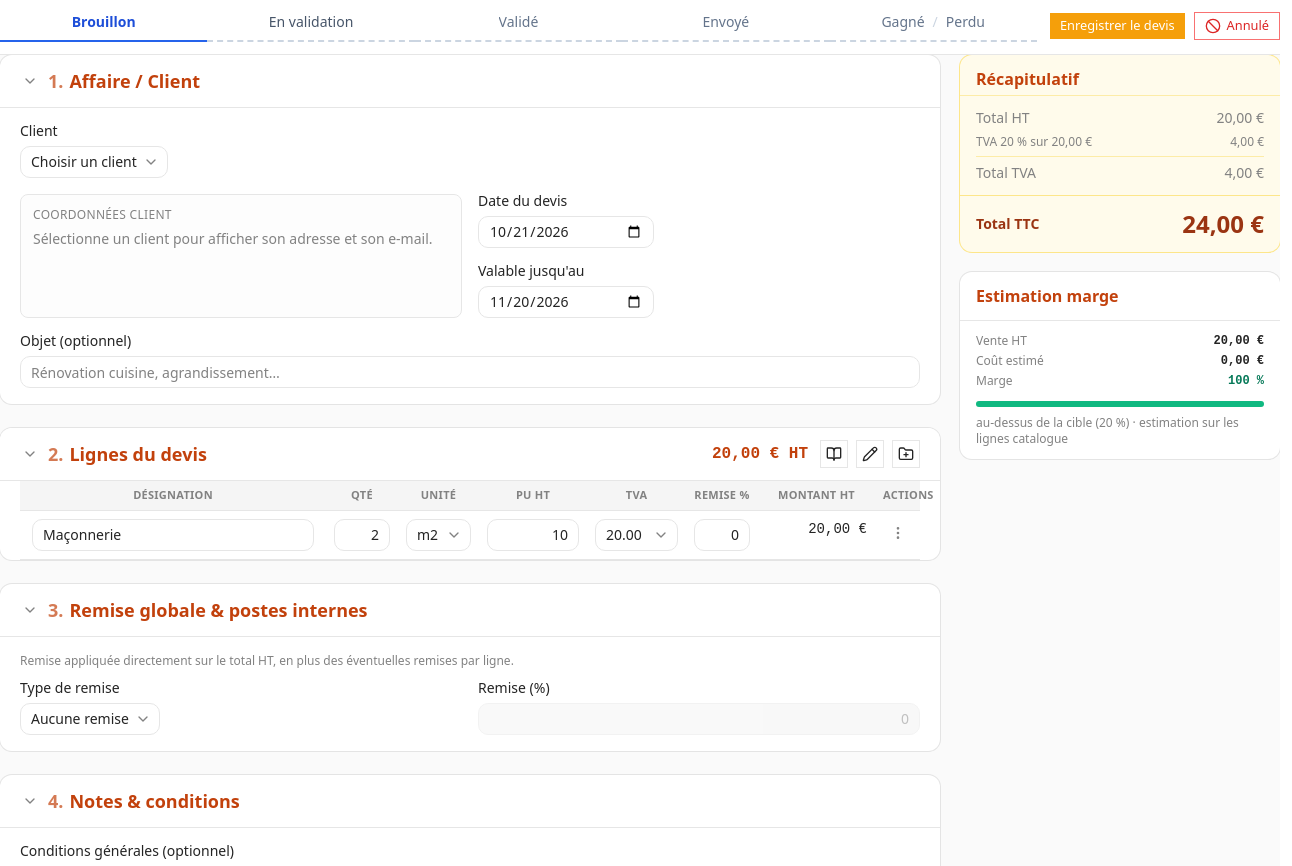
Test: Ligne de devis allégée — menu ⋮ › se referme après le choix d’une entrée
Click the heading titled "Actions de la ligne". click: (898, 532)
box: top-left (890, 524), bottom-right (906, 540)
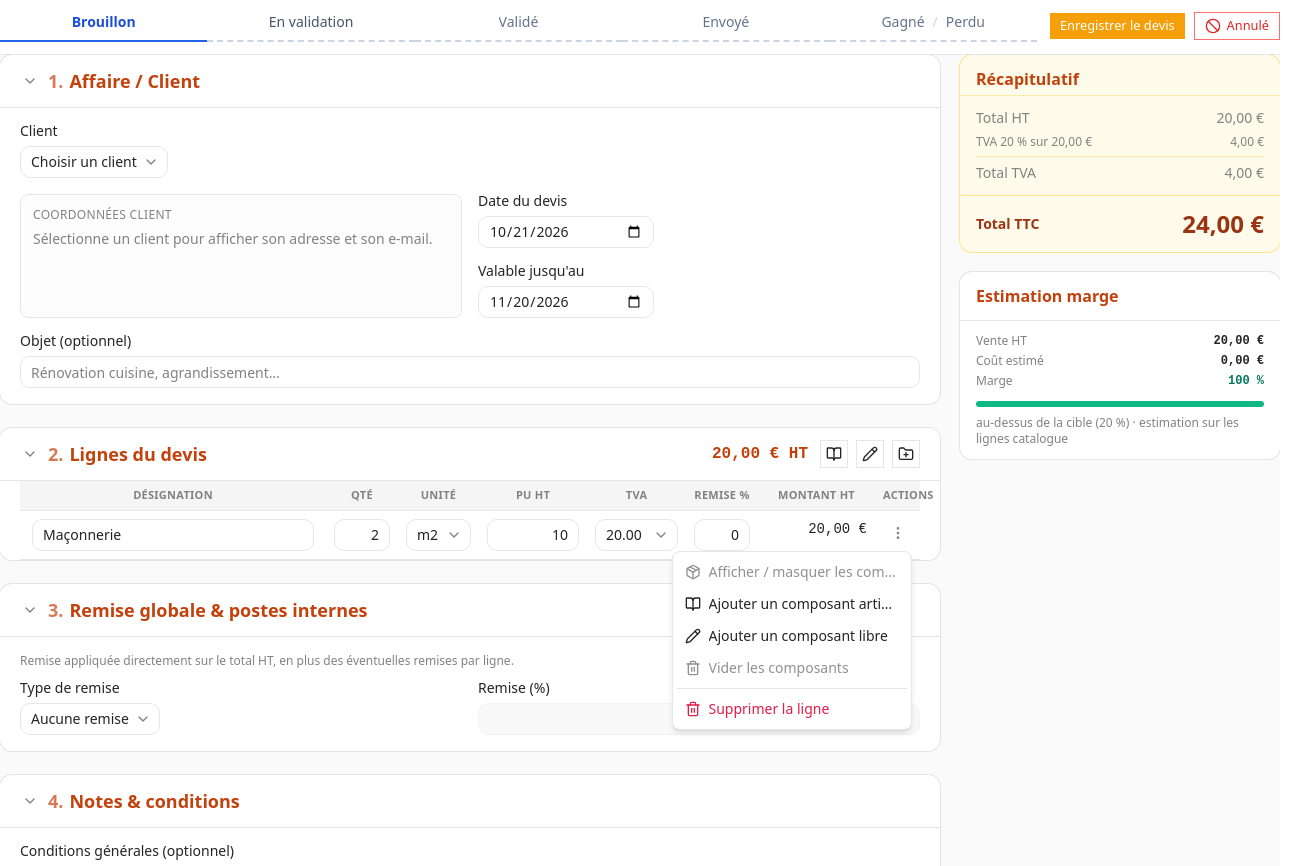
Click the button labelled "Supprimer la ligne". click: (792, 708)
box: top-left (676, 692), bottom-right (906, 724)
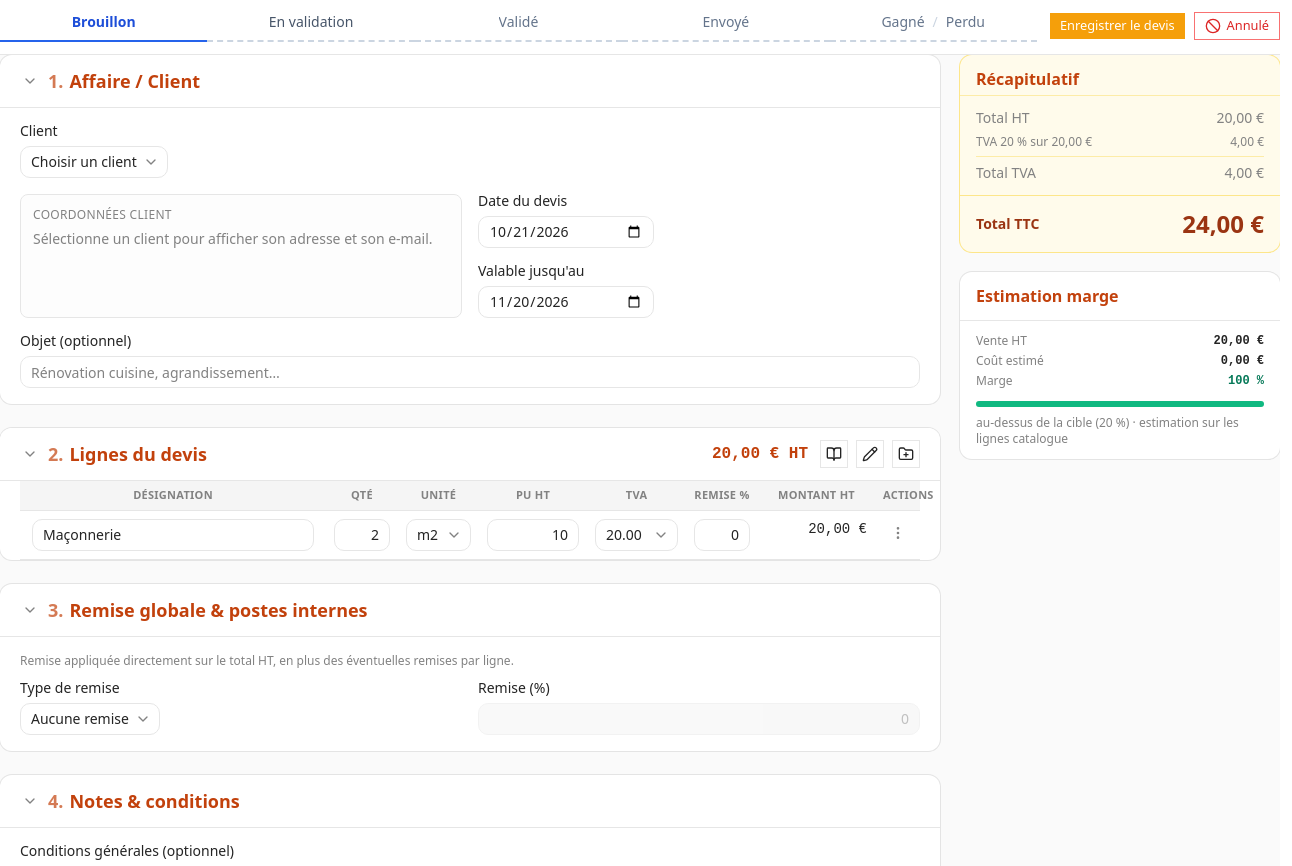
Now the button labelled "Supprimer la ligne" is gone
